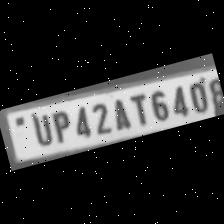0: (183, 77, 211, 116)
2: (86, 99, 114, 138)
4: (66, 102, 94, 141), (164, 80, 190, 118)
6: (144, 86, 172, 124)
8: (203, 74, 224, 112)
A: (105, 95, 133, 134)
P: (44, 107, 74, 145)
T: (124, 90, 152, 128)
U: (26, 111, 55, 149)
